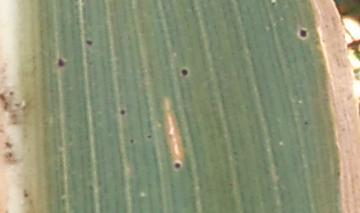tarspot: (297, 27, 309, 40), (56, 56, 66, 68), (3, 140, 15, 150), (179, 66, 189, 76), (84, 37, 93, 47), (4, 150, 14, 159), (173, 161, 181, 170), (128, 137, 136, 146), (118, 108, 126, 116), (1, 93, 7, 103), (144, 133, 152, 140), (7, 90, 15, 97), (22, 191, 29, 199), (302, 119, 309, 126), (270, 1, 276, 7)
